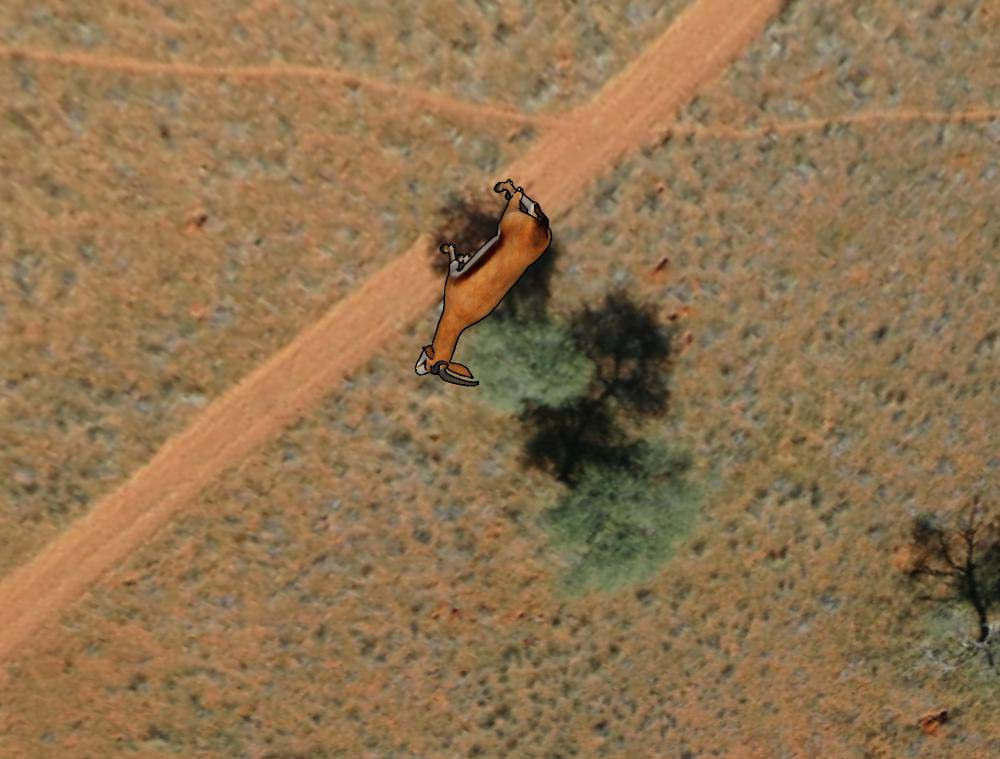springbok: (409, 173, 555, 387)
